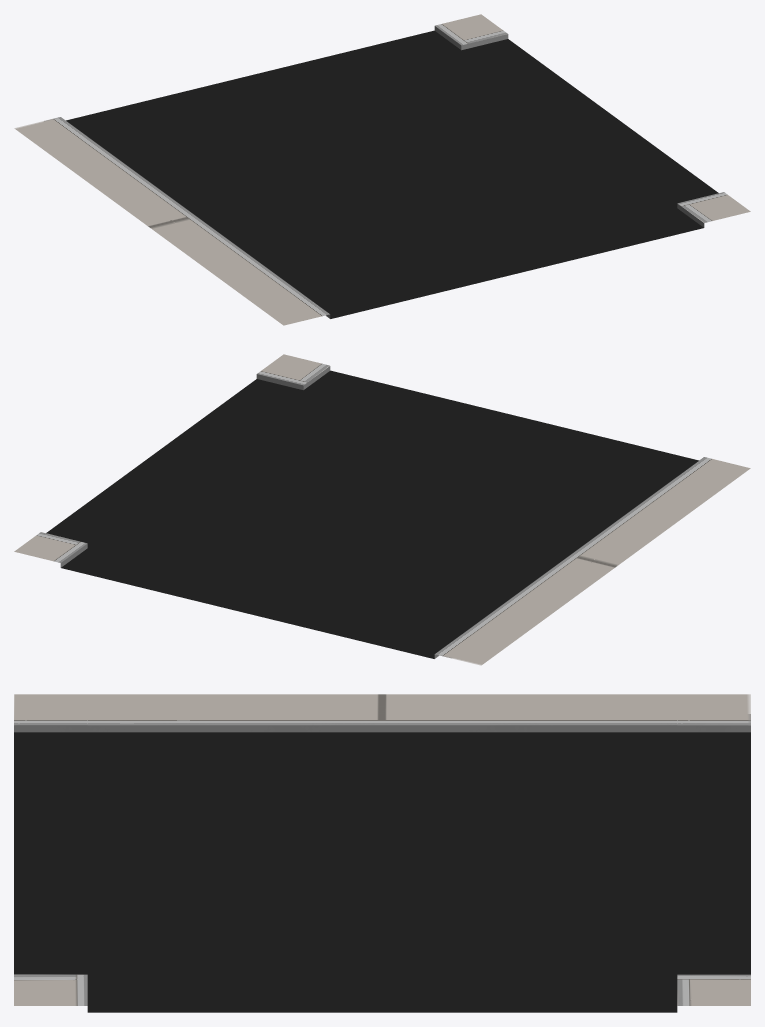
File: Carretera2_5x5.obj
3 views of the same model, one above another, from view 1: azimuth 30°, elevation 25°; view 2: azimuth 150°, elevation 25°; view 3: azimuth 270°, elevation 25° (orthographic). The views are drawn at different scales.
Parts seen in each view (by area): view 1: Plane; view 2: Plane; view 3: Plane.
Part boxes in pixels (x1,y1,x2,y2): Plane: (14, 14, 750, 325); Plane: (14, 354, 750, 665); Plane: (14, 694, 750, 1012).
Size of the model in its own units: 5 by 0.05 by 5.
